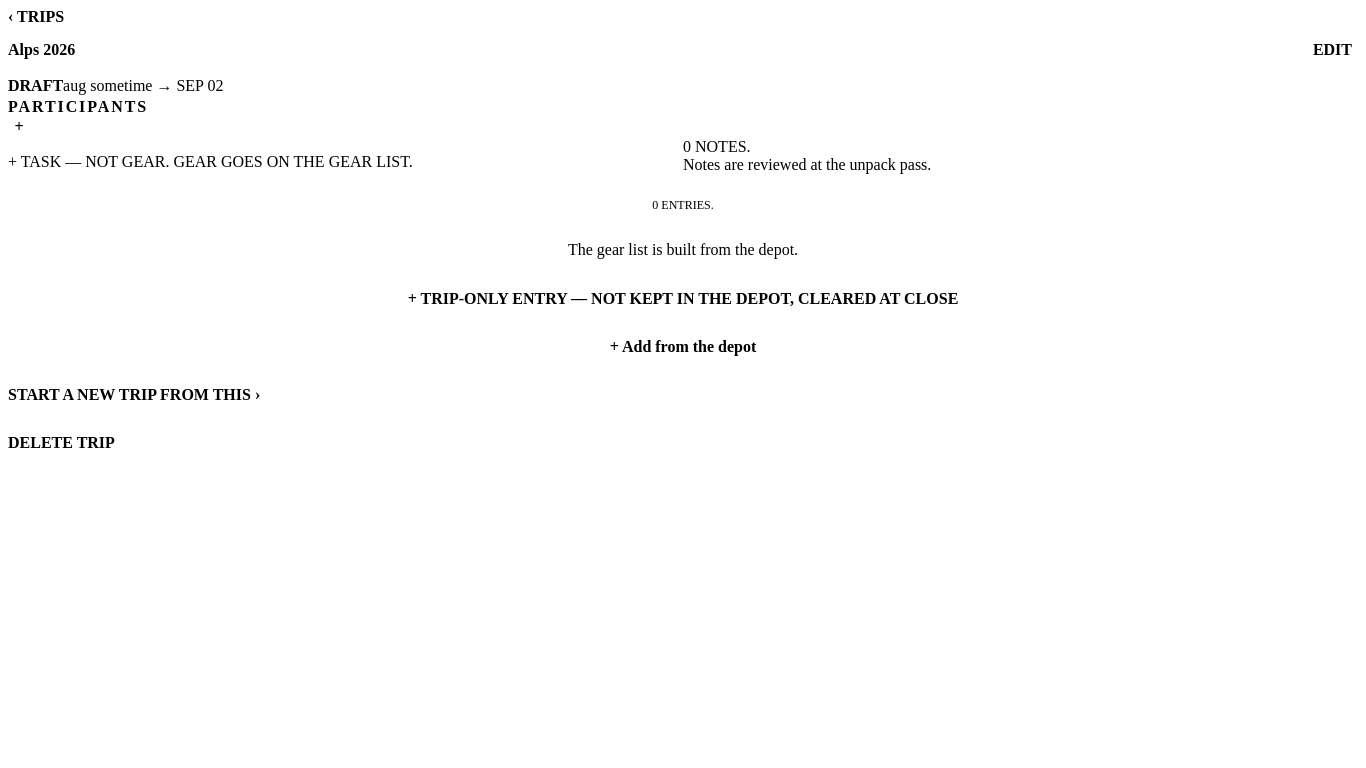
the trip screen — a stored date EDIT cannot draw › states the stored value beside the field
Click the button "EDIT" at point(1332, 50), box [1307,26,1358,74]
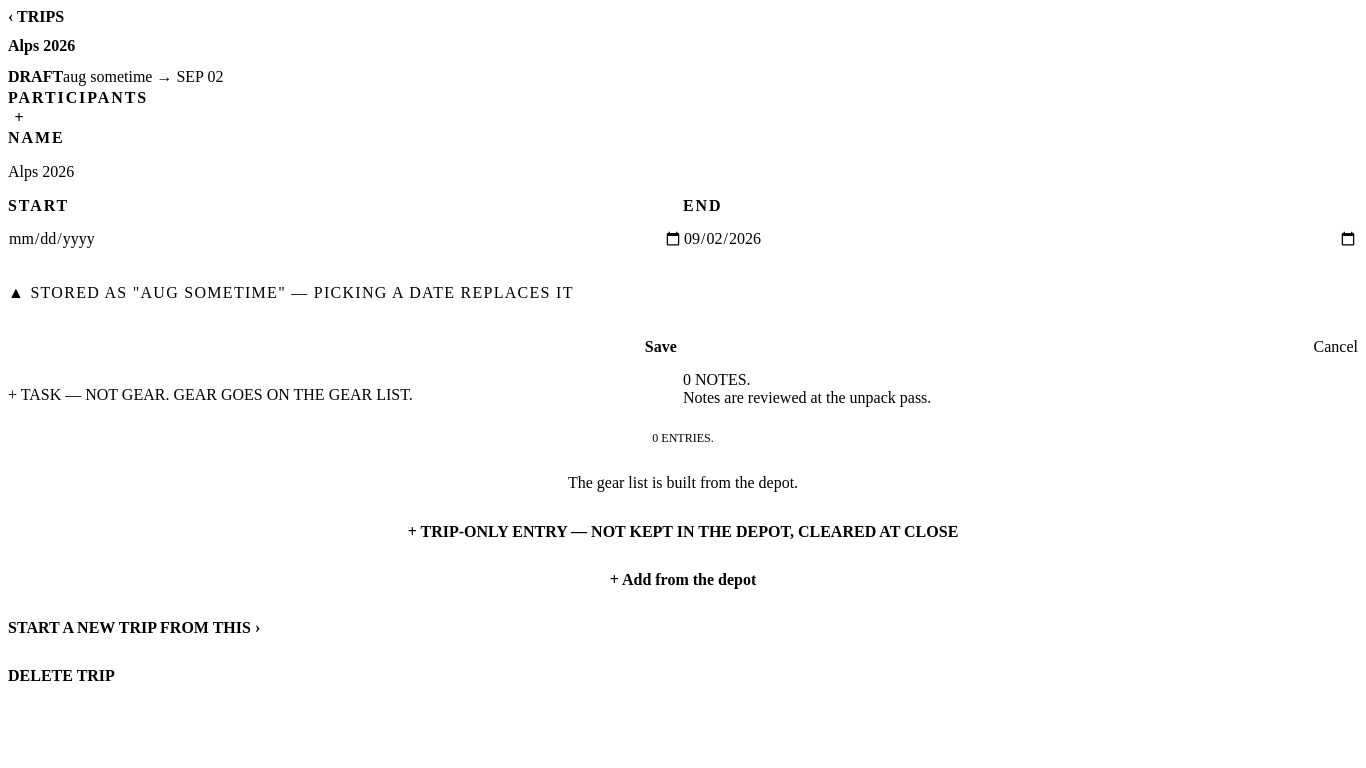
Now the element with test id "start-note" reads "▲ STORED AS \"aug sometime\" — PICKING A DATE REPLACES IT", box [8,284,574,301]
